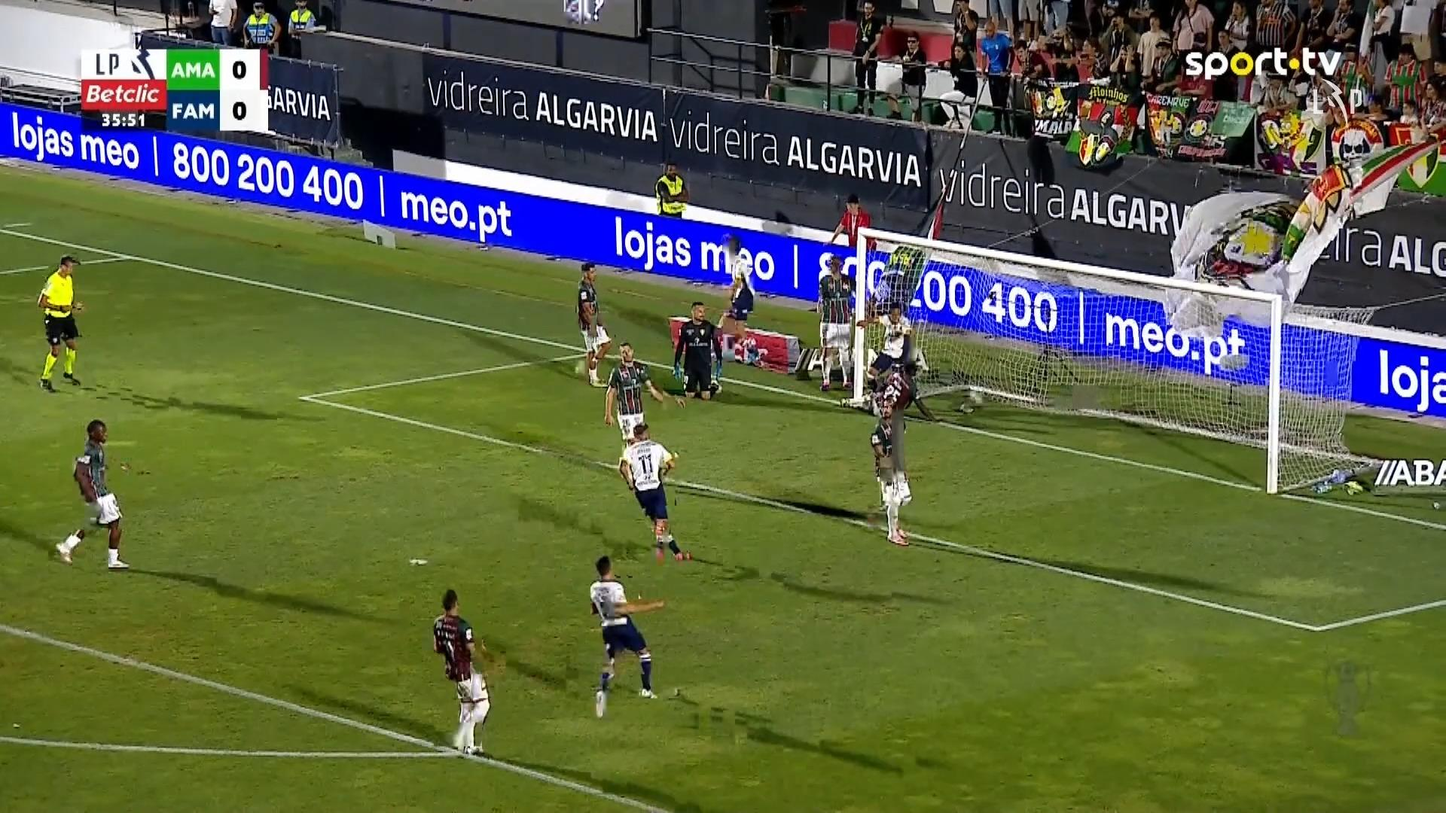goalkeeper: (671, 300, 723, 400)
player: (588, 554, 665, 717), (53, 419, 130, 570), (618, 422, 691, 563), (431, 587, 491, 756), (856, 301, 937, 422), (602, 340, 685, 447), (868, 379, 914, 546), (815, 254, 856, 391), (716, 233, 755, 358), (575, 260, 612, 387)
referee: (35, 253, 84, 392)
